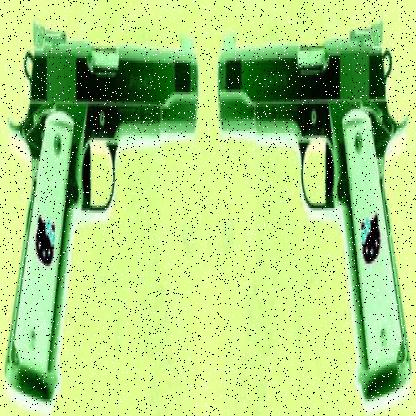pistol: (4, 15, 199, 404), (218, 17, 410, 397)
